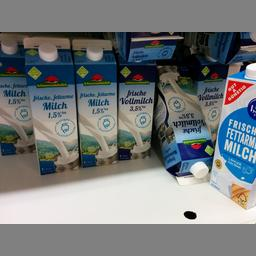milk: (17, 36, 80, 174), (158, 60, 212, 186), (70, 36, 116, 166), (215, 64, 255, 210), (1, 32, 34, 157), (116, 62, 154, 160)
